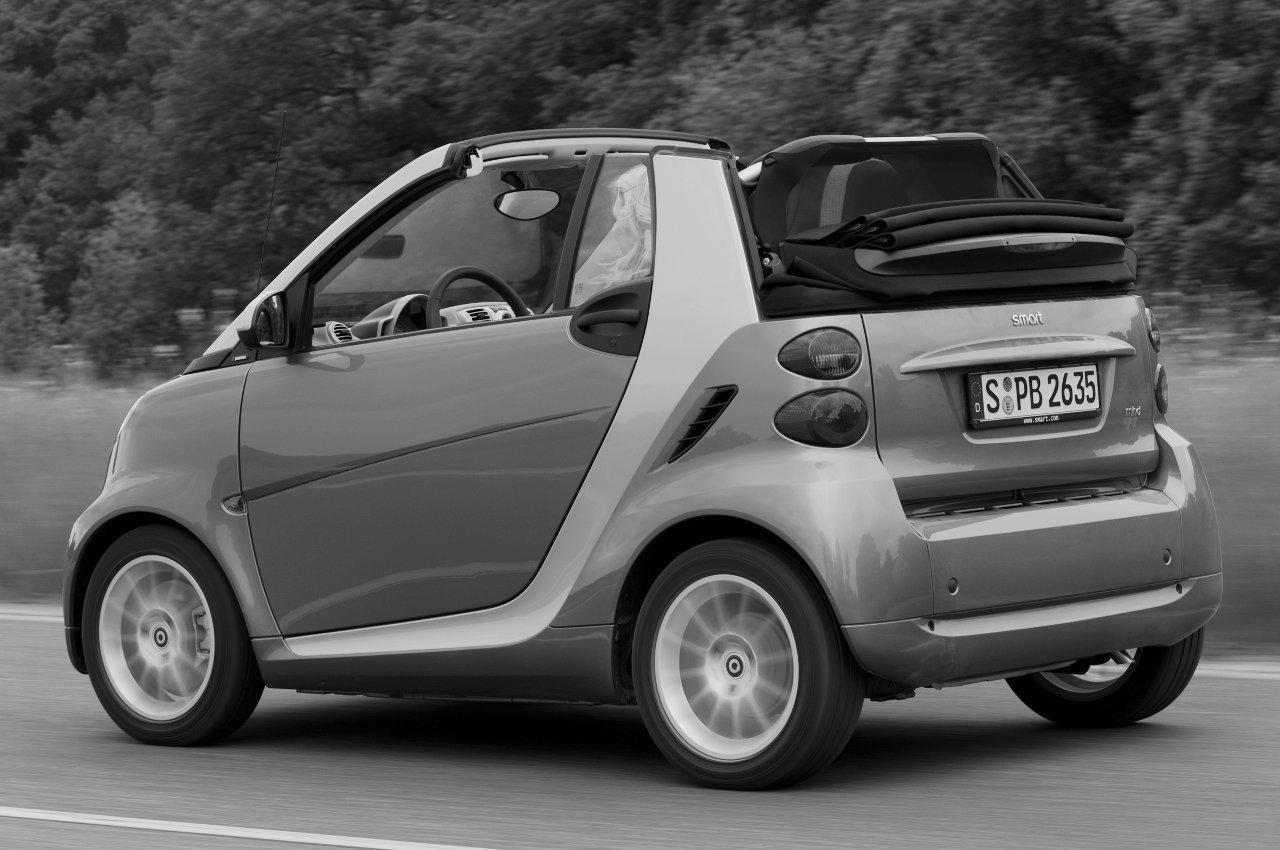car: (63, 121, 1227, 795)
